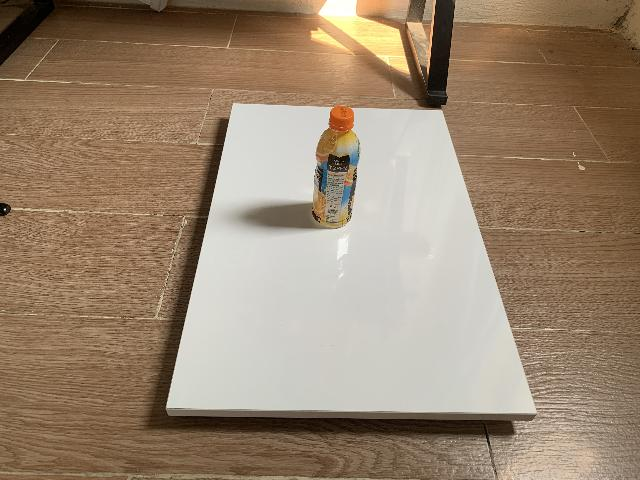teppy_orange_juice: (312, 106, 361, 228)
